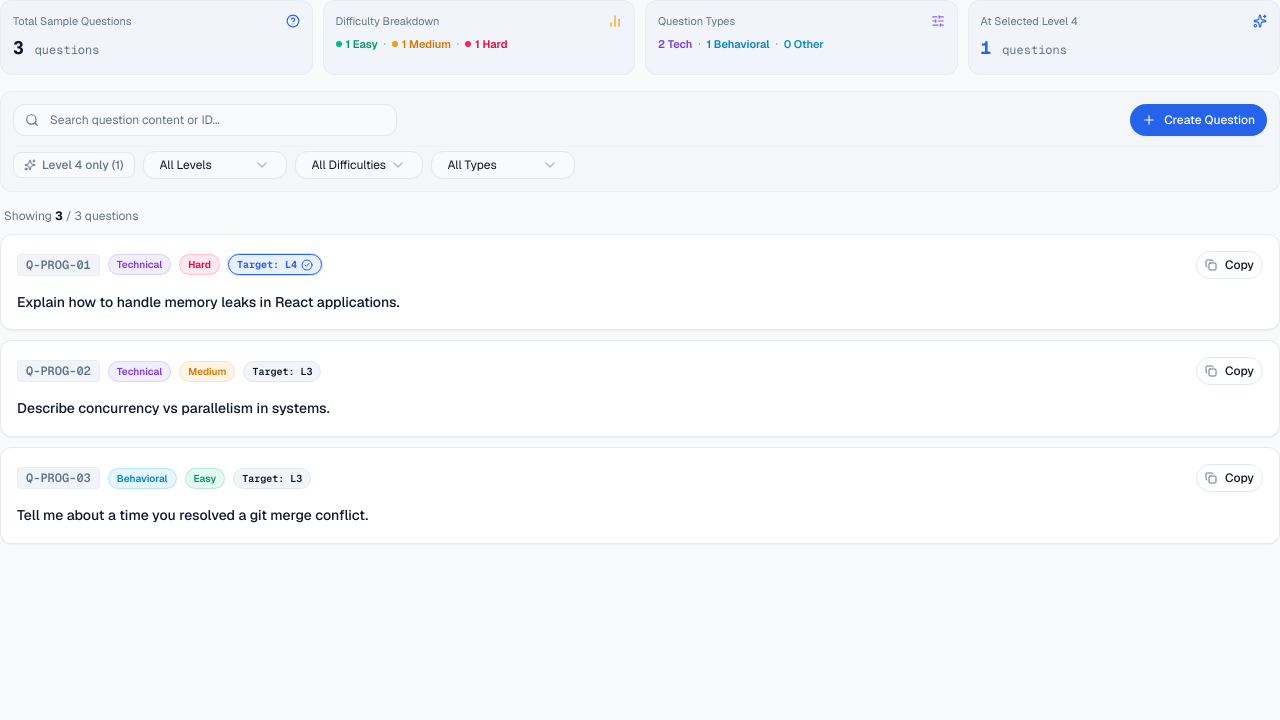
SfiaQuestionBankTab › filters questions by quick Level toggle
Check: the text "Q-PROG-01" is shown, box top-left (17, 254), bottom-right (100, 276)
Check: the text "Q-PROG-02" is shown, box top-left (17, 360), bottom-right (100, 382)
# Click 'Level 4 only' toggle
Click the button "Level 4 only (1)": (74, 164) top-left (13, 152), bottom-right (134, 178)
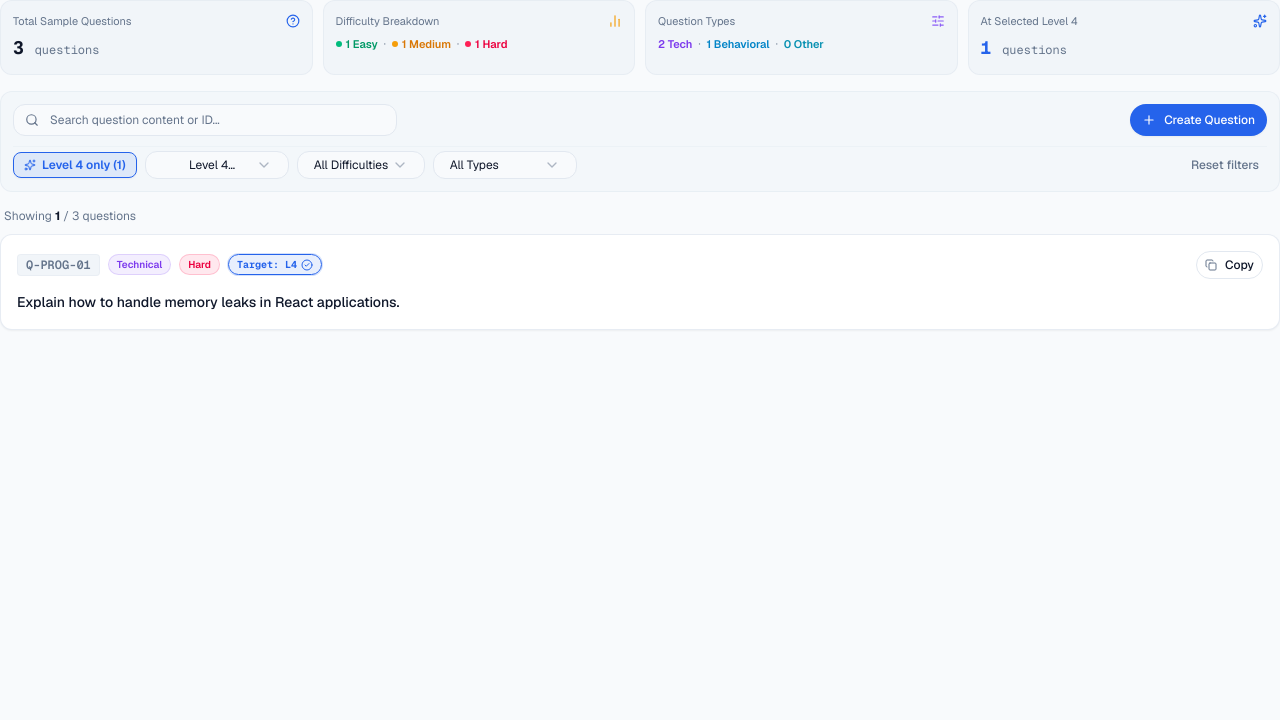
Check: the text "Q-PROG-01" is shown, box top-left (17, 254), bottom-right (100, 276)
Check: the text "Q-PROG-02" is gone
Check: the text "Q-PROG-03" is gone
